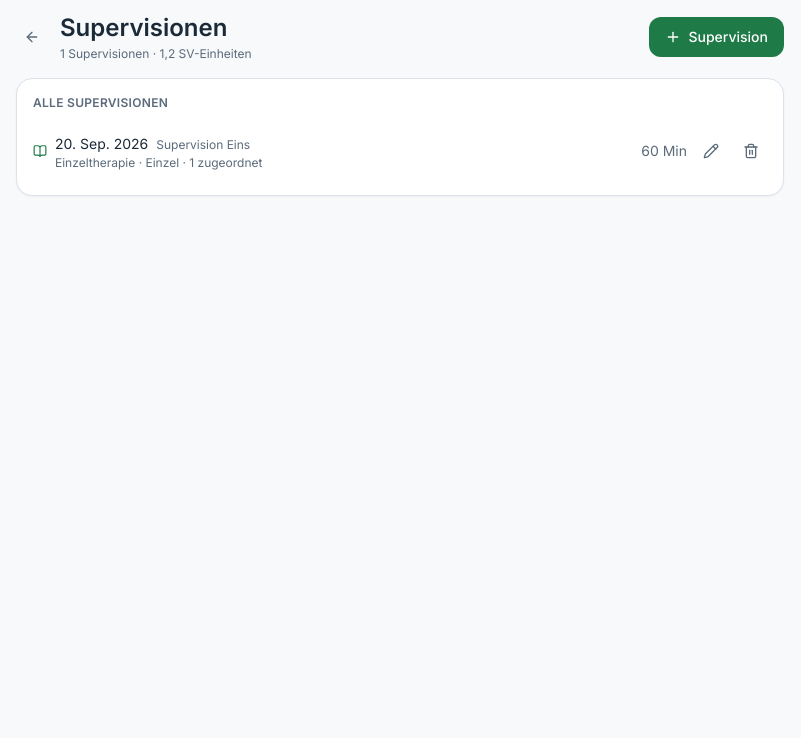
Test: SupervisionClient › zeigt einen abgelehnten Speichern-Aufruf unter dem Bearbeiten-Formular und räumt ihn beim Abbrechen weg
Click the button named "Supervision bearbeiten": coordinates (711, 151) [695,135,727,167]
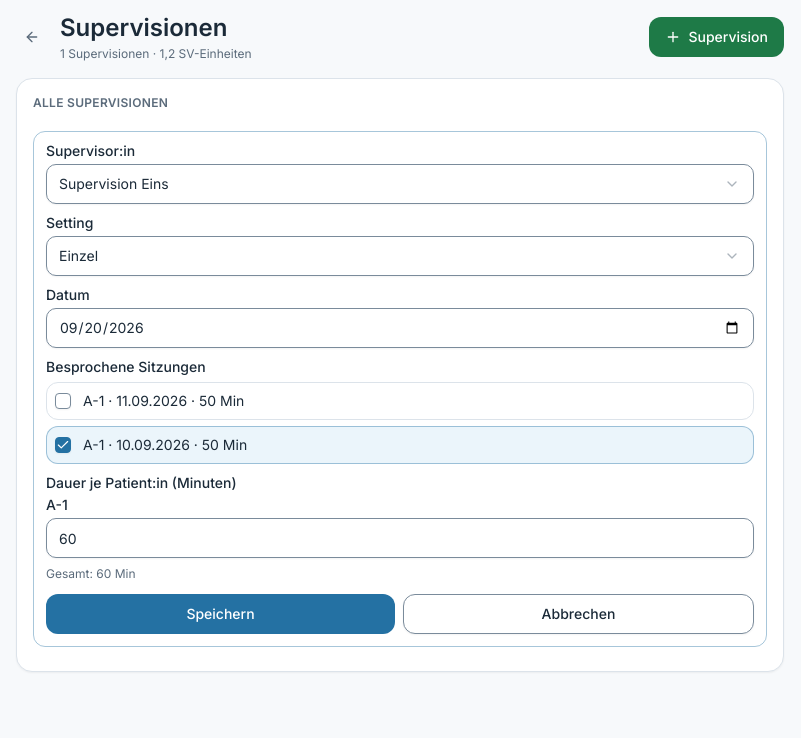
Click the button "Speichern": coordinates (220, 614) [46,594,395,634]
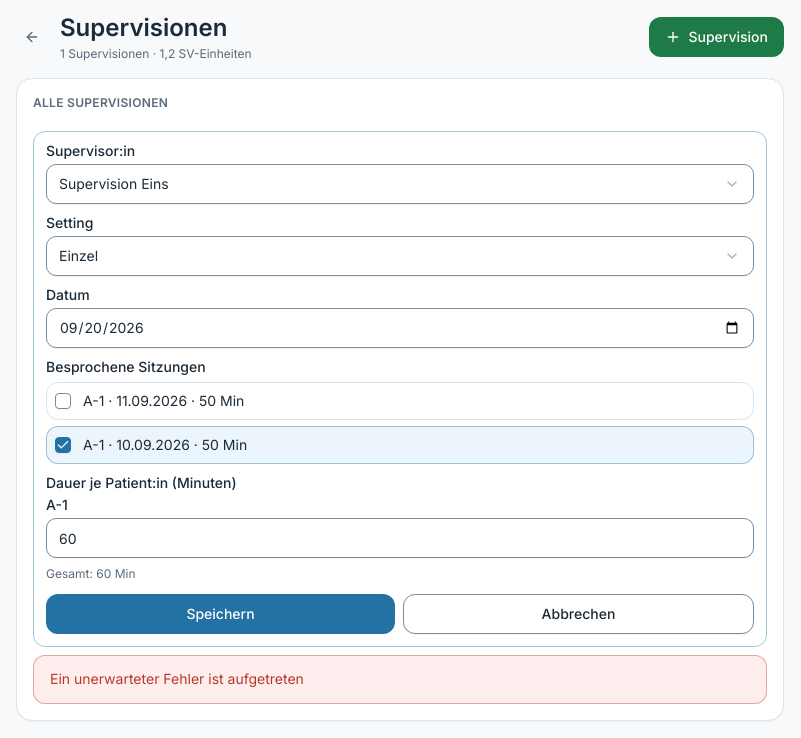
expect the message reads "Ein unerwarteter Fehler ist aufgetreten": met, box [50,670,304,687]
Click the button "Abbrechen": coordinates (578, 614) [403,594,754,634]
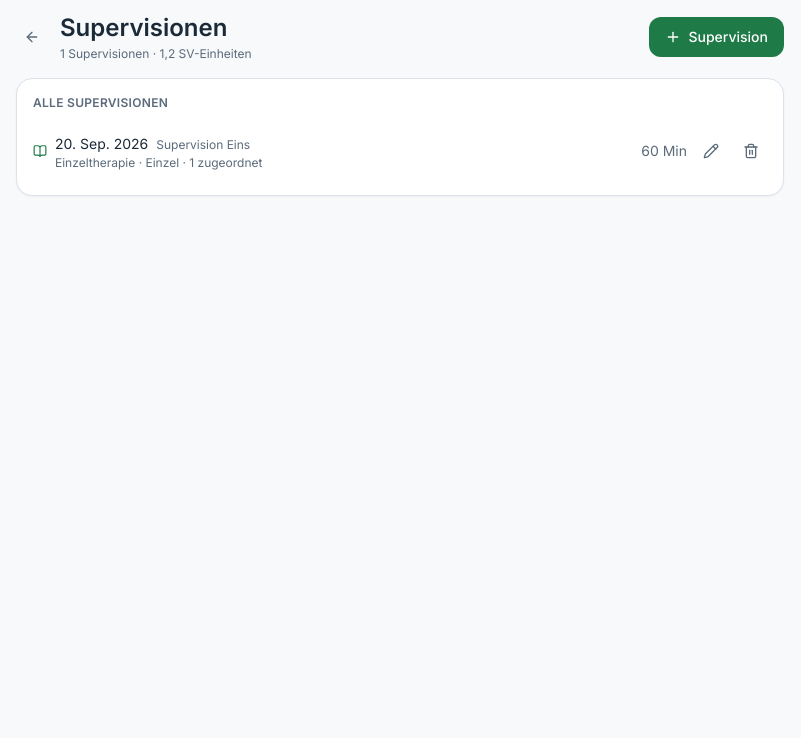
expect the message "Ein unerwarteter Fehler ist aufgetreten" is gone: met
